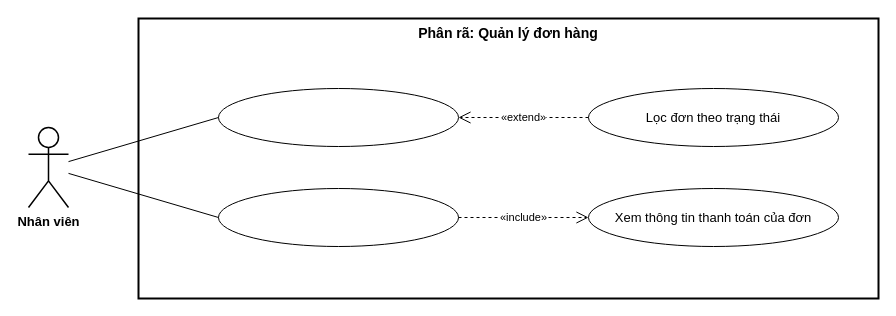
Image size: 896x316. Some labels were removed from this diagram. The shapes that lost their labels are listed below. From the top down, each one's centre as x and y in pixels, then its label:
At [338,117]: "Xem danh sách đơn hàng".
At [338,217]: "Xem chi tiết đơn hàng".
